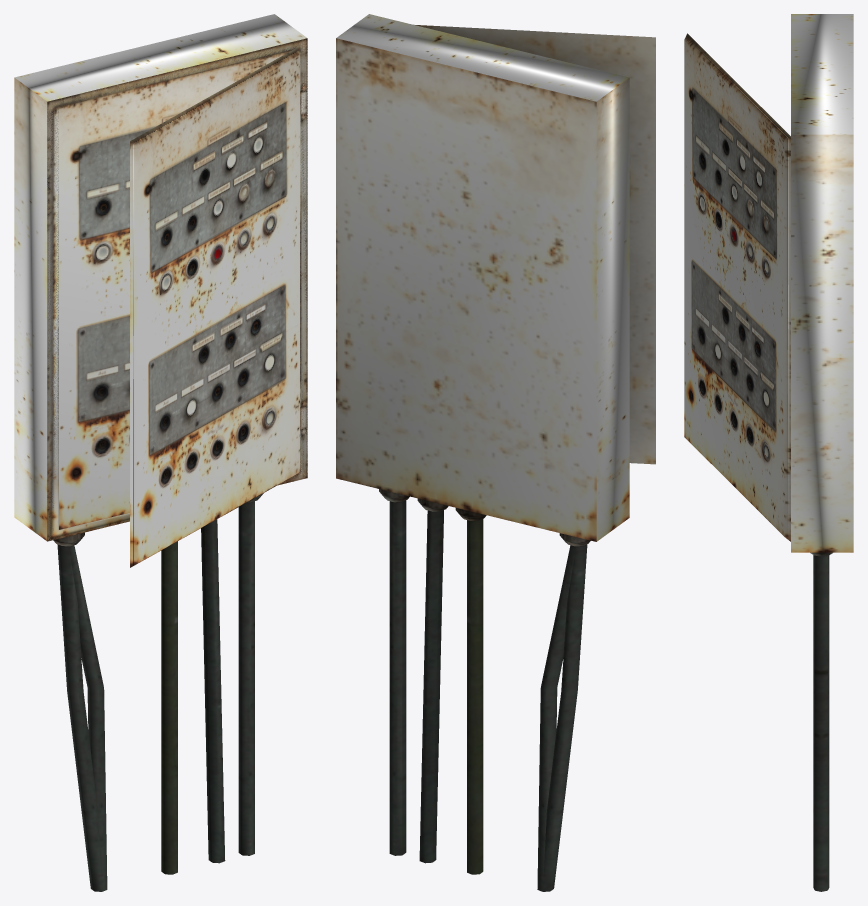
The model's file is control_box_0004.fbx.
The picture shows the model from 3 angles, left to right: view 1: azimuth 30°, elevation 25°; view 2: azimuth 150°, elevation 25°; view 3: azimuth 270°, elevation 25°; orthographic projection. The views are drawn at different scales.
Parts seen in each view (by area): view 1: control_box_0004a, control_box_0004b; view 2: control_box_0004a, control_box_0004b; view 3: control_box_0004b, control_box_0004a.
Part boxes in pixels (x1,y1,x2,y2): control_box_0004a: [14, 14, 307, 891]; control_box_0004b: [47, 38, 307, 891]; control_box_0004a: [336, 14, 629, 891]; control_box_0004b: [415, 25, 655, 891]; control_box_0004b: [684, 33, 790, 541]; control_box_0004a: [791, 14, 853, 891].
Size of the model in its own units: 50.56 by 151 by 29.99.
